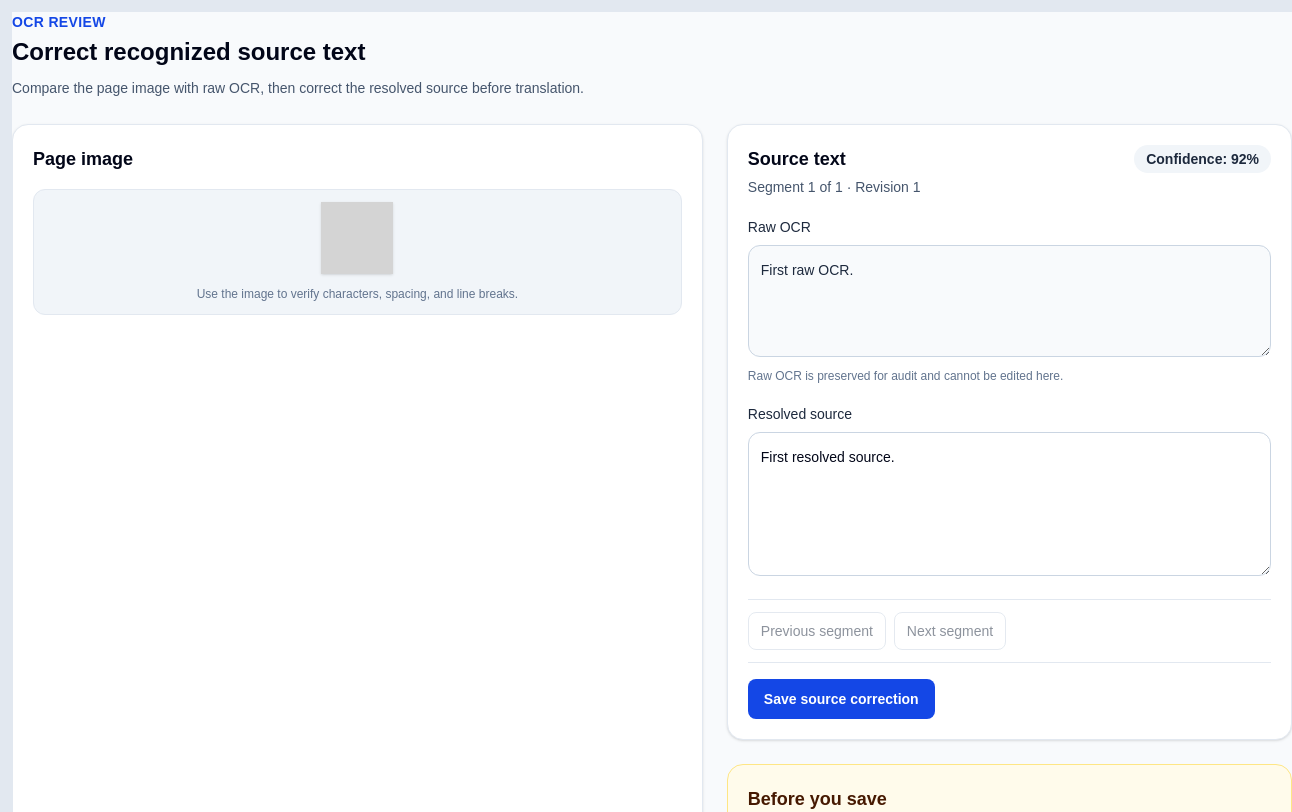
OCRReview › saves a source correction with the current revision and explains retranslation
Replace the text in the text box labelled "Resolved source" with "Corrected source.": (1009, 504) [748,432,1271,576]
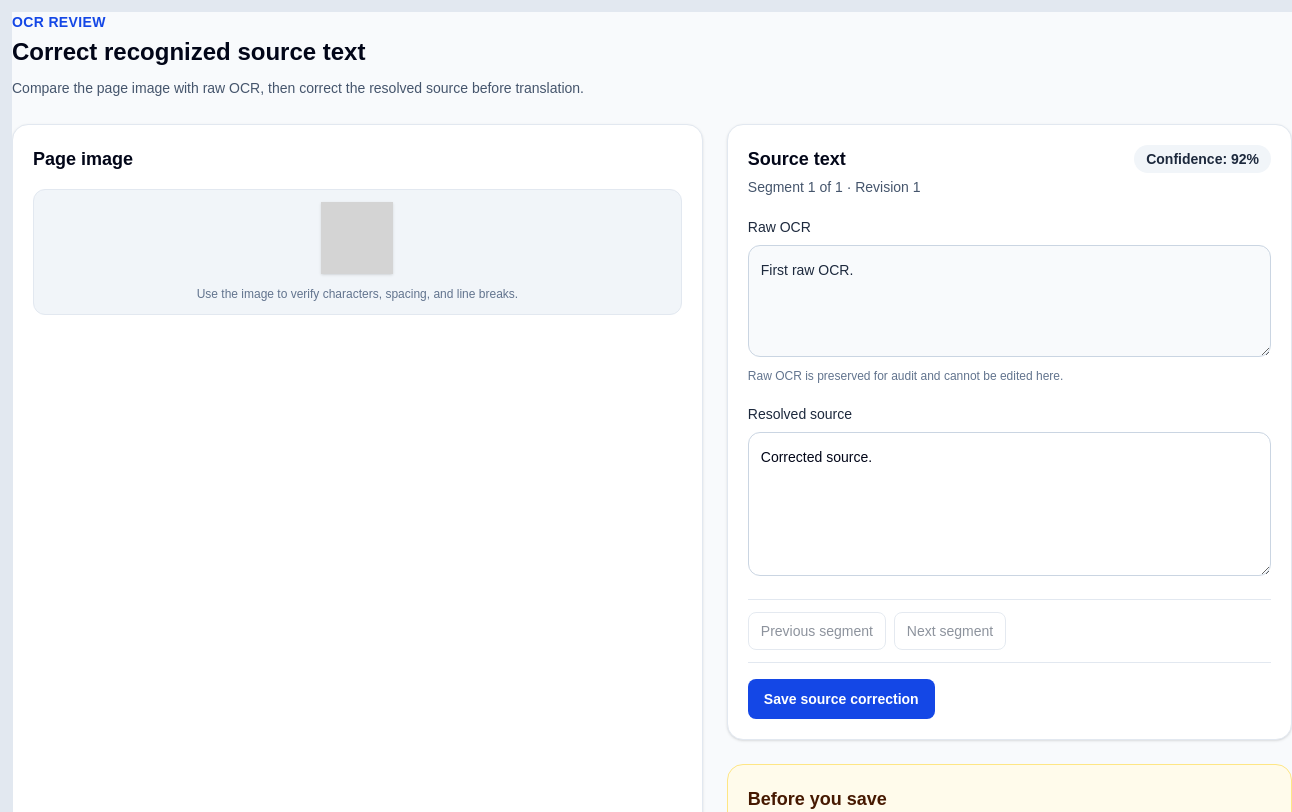
Click the button "Save source correction": (841, 699) [748,679,935,719]
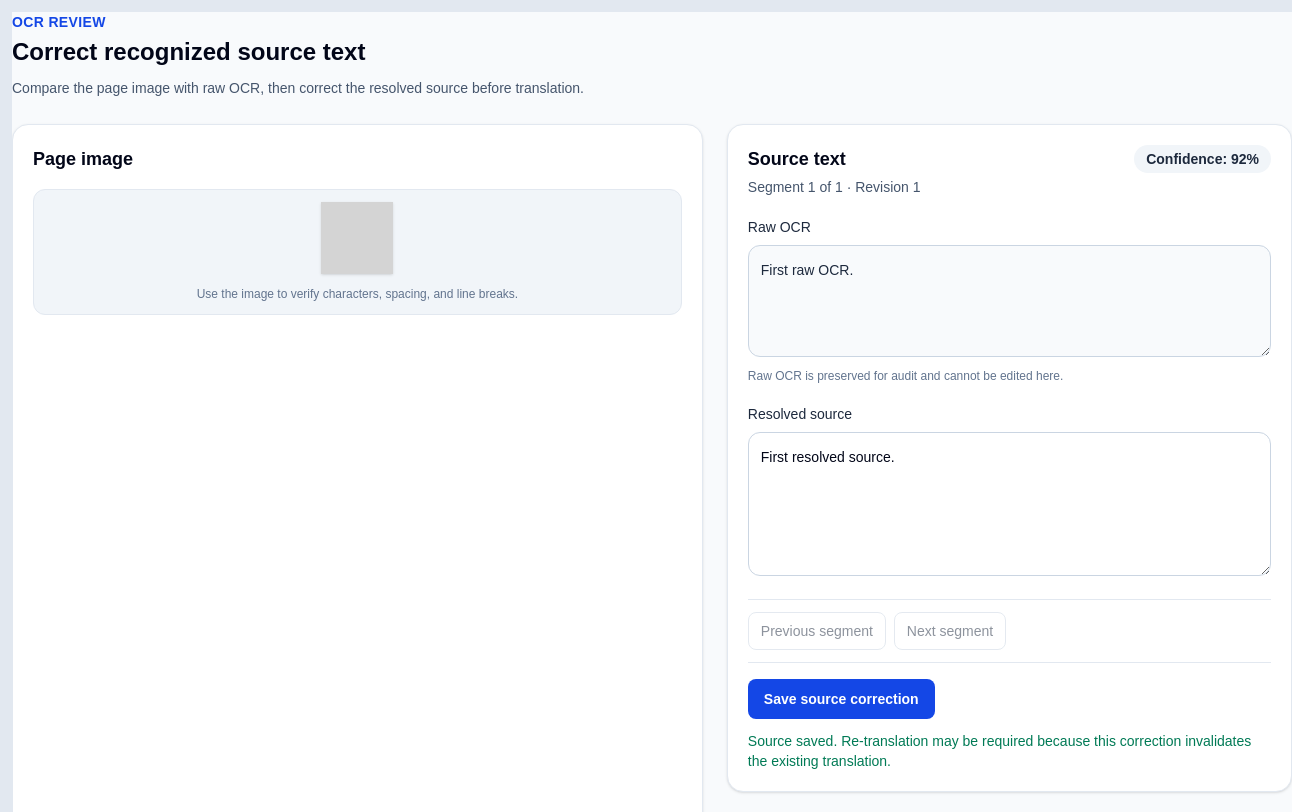
Check: the text "Re-translation may be required because this correction invalidates" is shown, box [748,733,1251,769]
